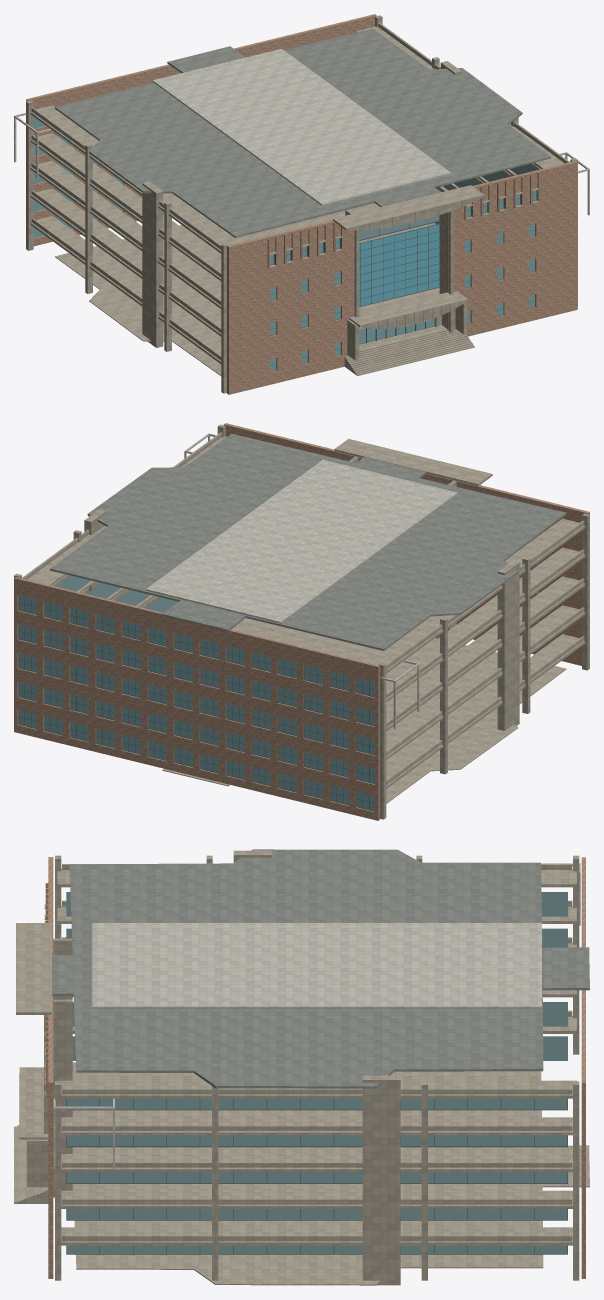
3 renders of one model, top to bottom at view 1: azimuth 30°, elevation 25°; view 2: azimuth 150°, elevation 25°; view 3: azimuth 270°, elevation 25°, orthographic. The views are drawn at different scales.
Visible parts, largest first — view 1: library__stone, library__brick, library__roof, library__trim, library__archglass, library__glass, library__stair-north, library__frame, library__sideglass, library__threshold-north; view 2: library__brick, library__roof, library__stone, library__trim, library__glass, library__frame, library__sideglass; view 3: library__stone, library__roof, library__trim, library__sideglass, library__brick, library__frame, library__stair-north.
Part boxes in pixels (box(x1,y1,x2,y2)): library__stone: box(26, 15, 577, 393); library__brick: box(26, 14, 577, 394); library__roof: box(55, 28, 550, 237); library__trim: box(14, 49, 589, 330); library__archglass: box(359, 224, 439, 306); library__glass: box(33, 117, 536, 371); library__stair-north: box(344, 329, 474, 375); library__frame: box(270, 164, 538, 371); library__sideglass: box(359, 164, 535, 239); library__threshold-north: box(359, 325, 446, 350); library__brick: box(14, 423, 589, 820); library__roof: box(50, 433, 566, 650); library__stone: box(14, 424, 589, 819); library__trim: box(146, 433, 457, 729); library__glass: box(18, 530, 545, 810); library__frame: box(18, 577, 374, 811); library__sideglass: box(57, 576, 178, 612); library__stone: box(16, 850, 589, 1285); library__roof: box(52, 849, 589, 1088); library__trim: box(19, 863, 580, 1168); library__sideglass: box(66, 892, 567, 1253); library__brick: box(45, 857, 585, 1278); library__frame: box(66, 1098, 567, 1254); library__stair-north: box(14, 1125, 48, 1203).
Size of the model in its own units: 64.27 by 25.27 by 64.02.
8 materials, 4 textured.
